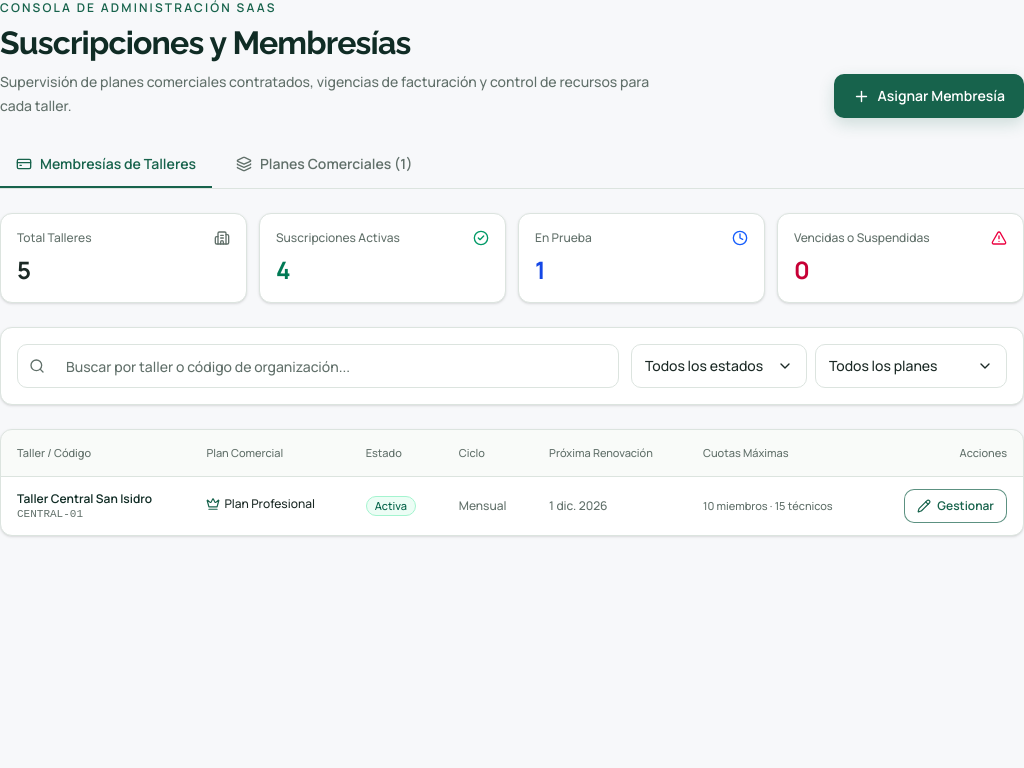
Scenario: PlatformSubscriptionsPage › abre el modal de edición de plan al hacer clic en Editar Plan
Click the button "Planes Comerciales (1)" at [324, 165], box [220,142,428,188]
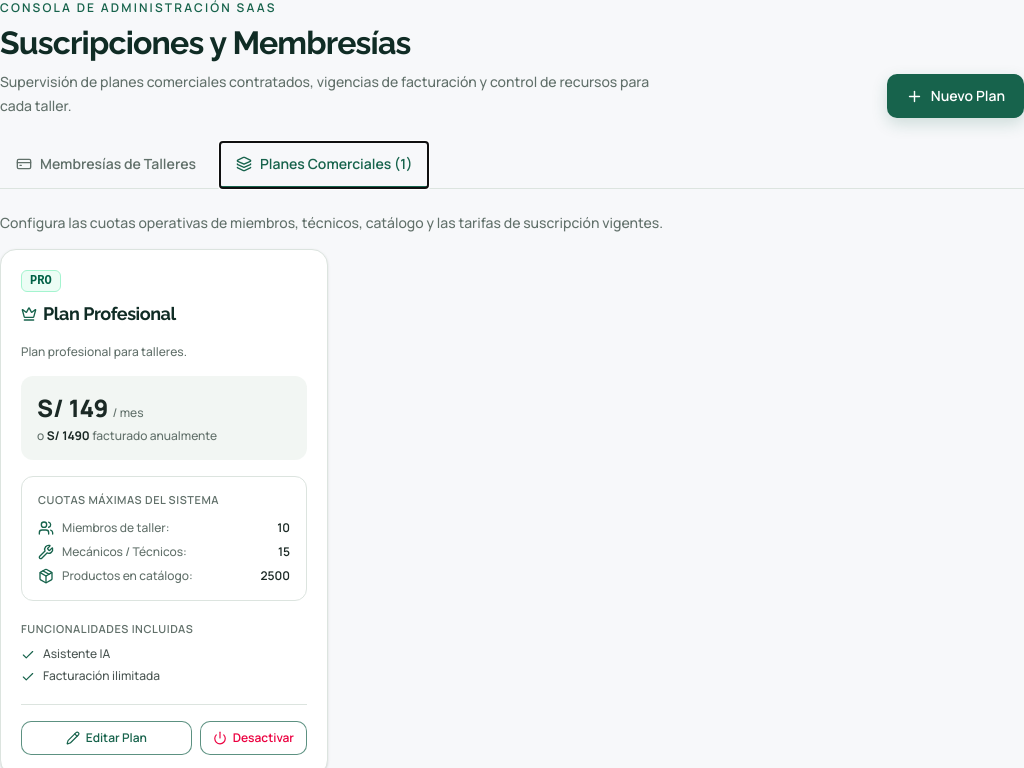
Click the button "Editar Plan" at [106, 738], box [21,720,192,754]
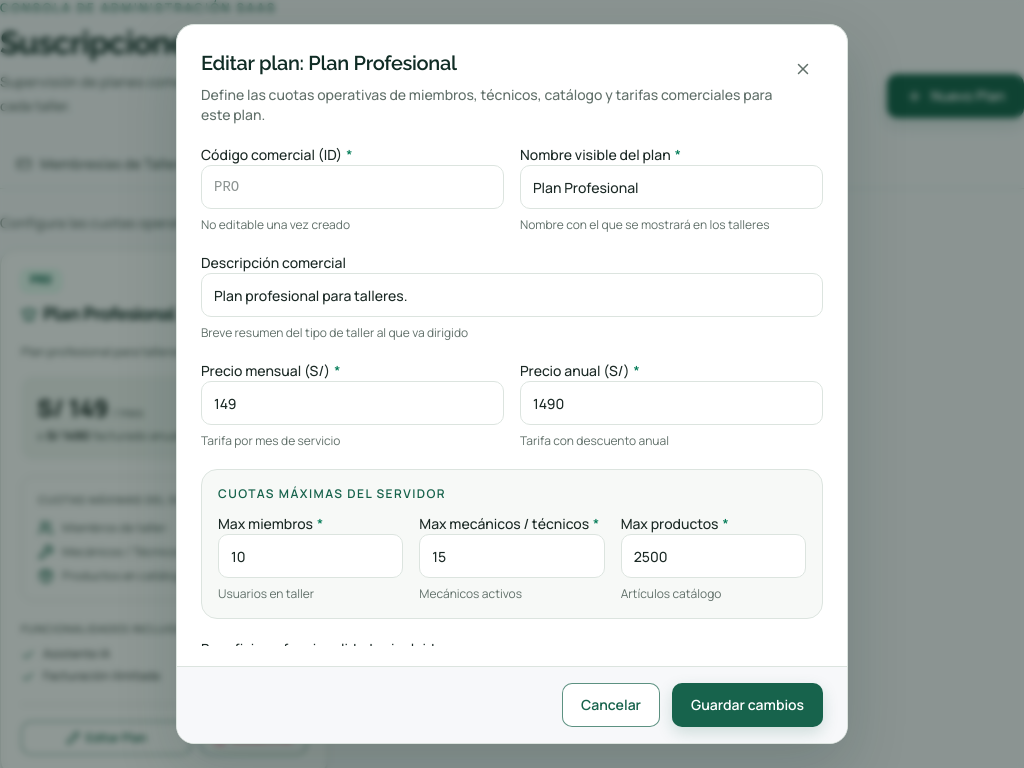
Check: the heading "Editar plan: Plan Profesional" is shown, box [201,51,457,75]
Check: the field showing "Plan Profesional" is shown, box [521,166,822,208]
